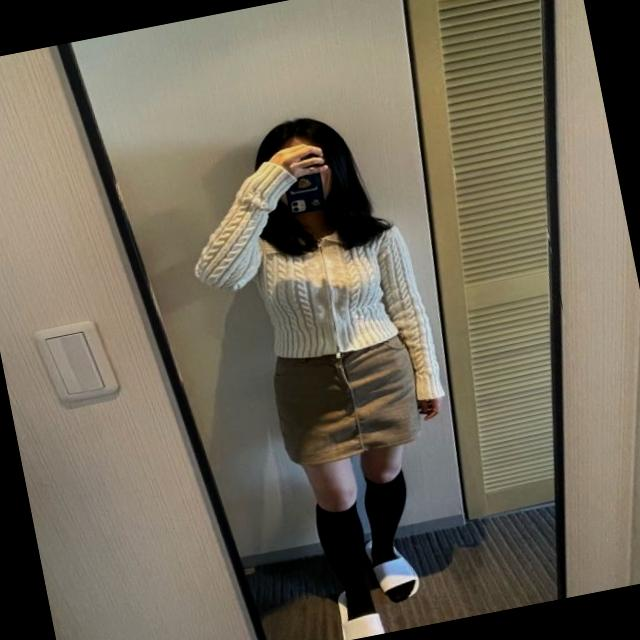cardigan: (180, 136, 447, 438)
skirt: (262, 329, 429, 470)
